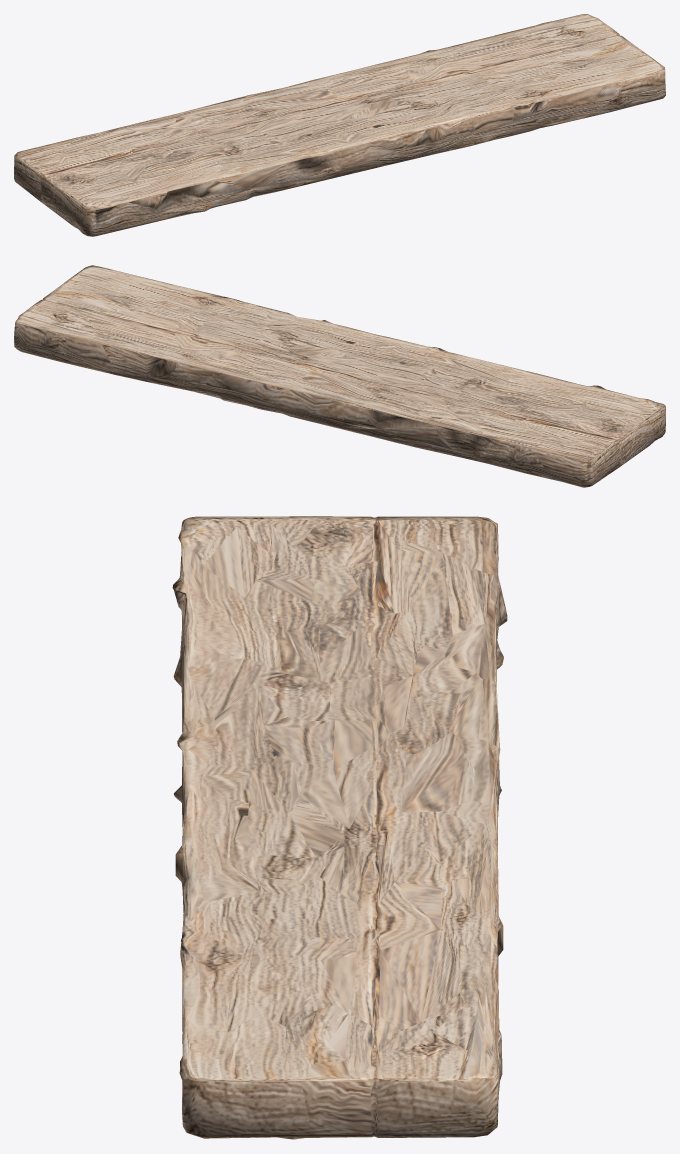
The model's file is plank-v1.glb.
The picture shows the model from 3 angles, top to bottom: view 1: azimuth 30°, elevation 25°; view 2: azimuth 150°, elevation 25°; view 3: azimuth 270°, elevation 25°; orthographic projection. The views are drawn at different scales.
Parts seen in each view (by area): view 1: tripo_node_499e7e07-01af-4298-9465-143bcc72725c; view 2: tripo_node_499e7e07-01af-4298-9465-143bcc72725c; view 3: tripo_node_499e7e07-01af-4298-9465-143bcc72725c.
Boxes of the visible parts, x1=… form: tripo_node_499e7e07-01af-4298-9465-143bcc72725c: x1=14, y1=14, x2=665, y2=236; tripo_node_499e7e07-01af-4298-9465-143bcc72725c: x1=14, y1=265, x2=665, y2=487; tripo_node_499e7e07-01af-4298-9465-143bcc72725c: x1=172, y1=516, x2=507, y2=1139.
Bounding box in the file's own units: 2 × 0.11 × 0.5.
Materials: 1 (1 with a texture image).
